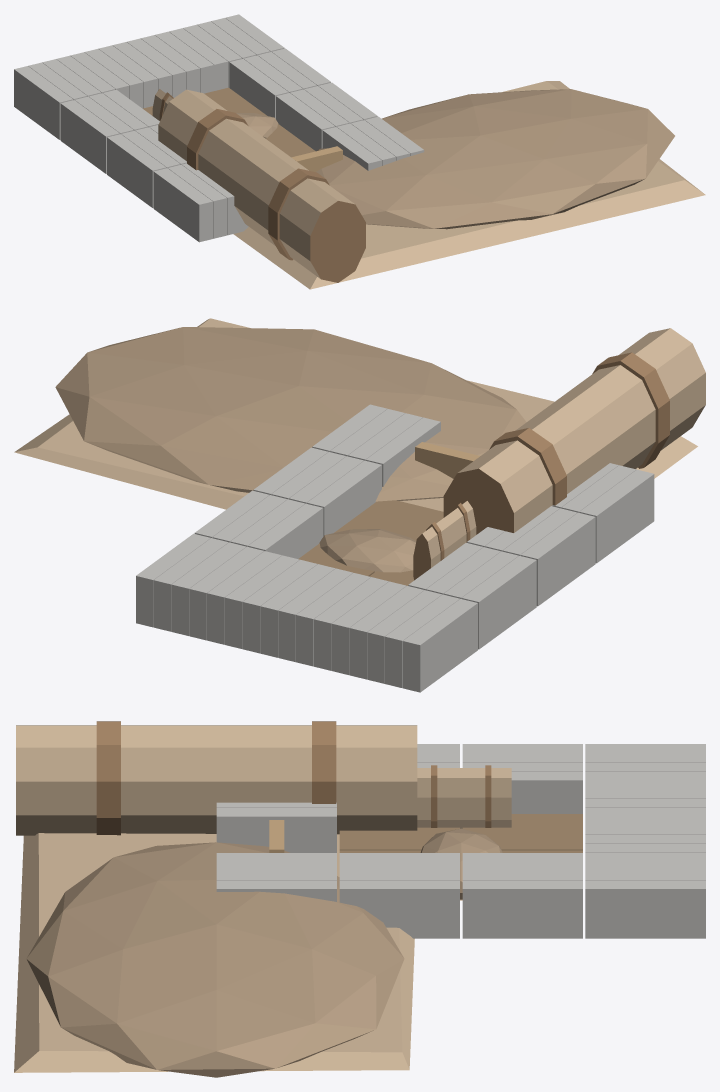
File: building_cut_stone_house_foundation.glb
The picture shows the model from 3 angles, top to bottom: view 1: azimuth 30°, elevation 25°; view 2: azimuth 150°, elevation 25°; view 3: azimuth 270°, elevation 25°; orthographic projection. The views are drawn at different scales.
Parts seen in each view (by area): view 1: building_cut_stone_house_foundation; view 2: building_cut_stone_house_foundation; view 3: building_cut_stone_house_foundation.
Part boxes in pixels (x1,y1,x2,y2): building_cut_stone_house_foundation: [14, 14, 705, 289]; building_cut_stone_house_foundation: [14, 318, 705, 692]; building_cut_stone_house_foundation: [14, 721, 705, 1077].
Size of the model in its own units: 1 by 0.2081 by 1.
